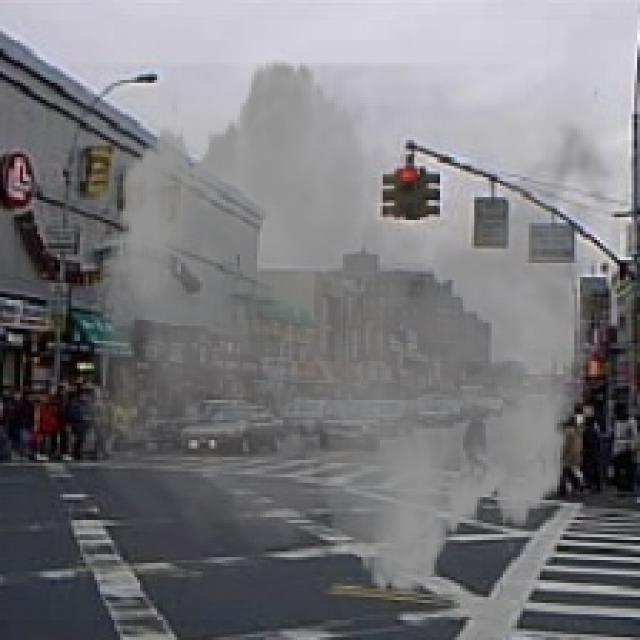smoke: (69, 43, 632, 611)
